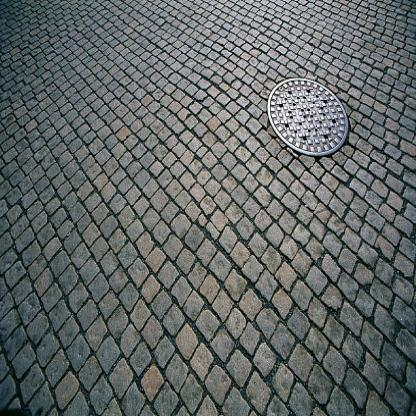manholes: (256, 55, 358, 172)
